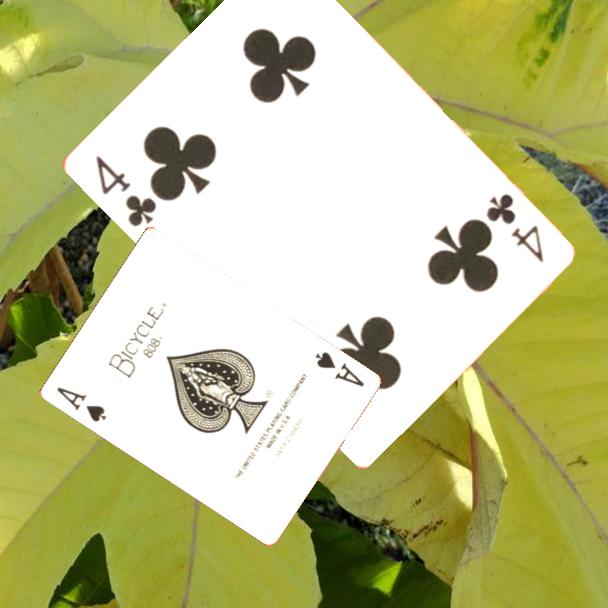c04: (91, 152, 159, 230), (482, 190, 547, 266)
s01: (52, 383, 108, 425), (311, 348, 367, 390)
